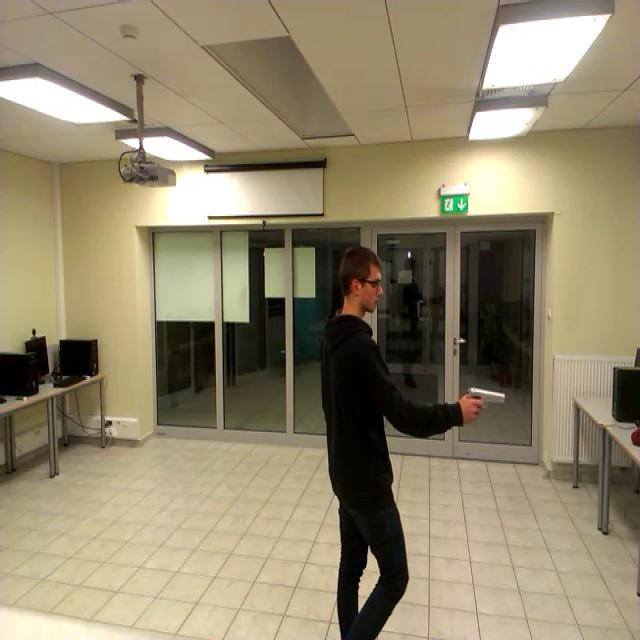Gun: (466, 386, 504, 418)
